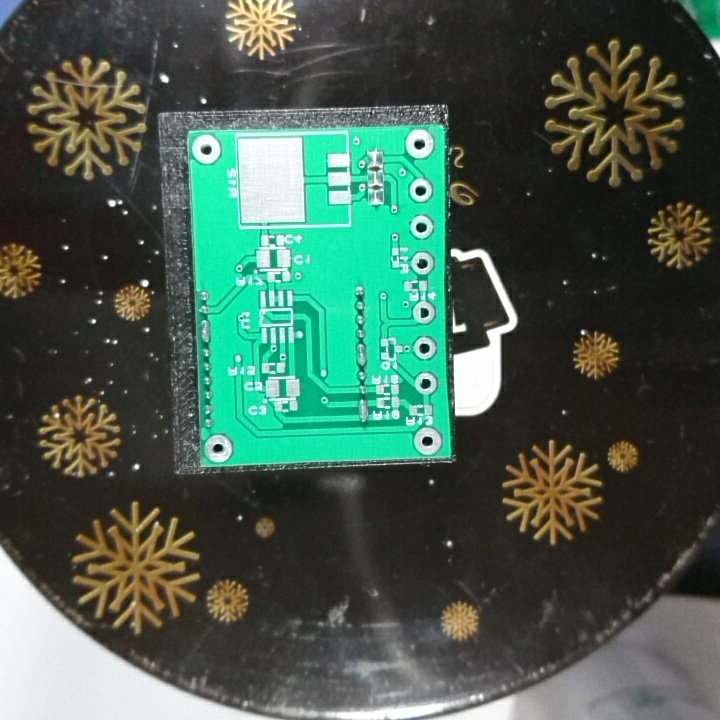F: (403, 128, 437, 162), (411, 423, 445, 455), (202, 432, 236, 464), (191, 133, 222, 167), (406, 212, 436, 242), (408, 249, 439, 278), (410, 334, 440, 363), (409, 298, 439, 326), (408, 177, 437, 204), (412, 369, 439, 398)
P: (197, 316, 213, 344), (357, 397, 372, 426), (354, 340, 369, 367)
